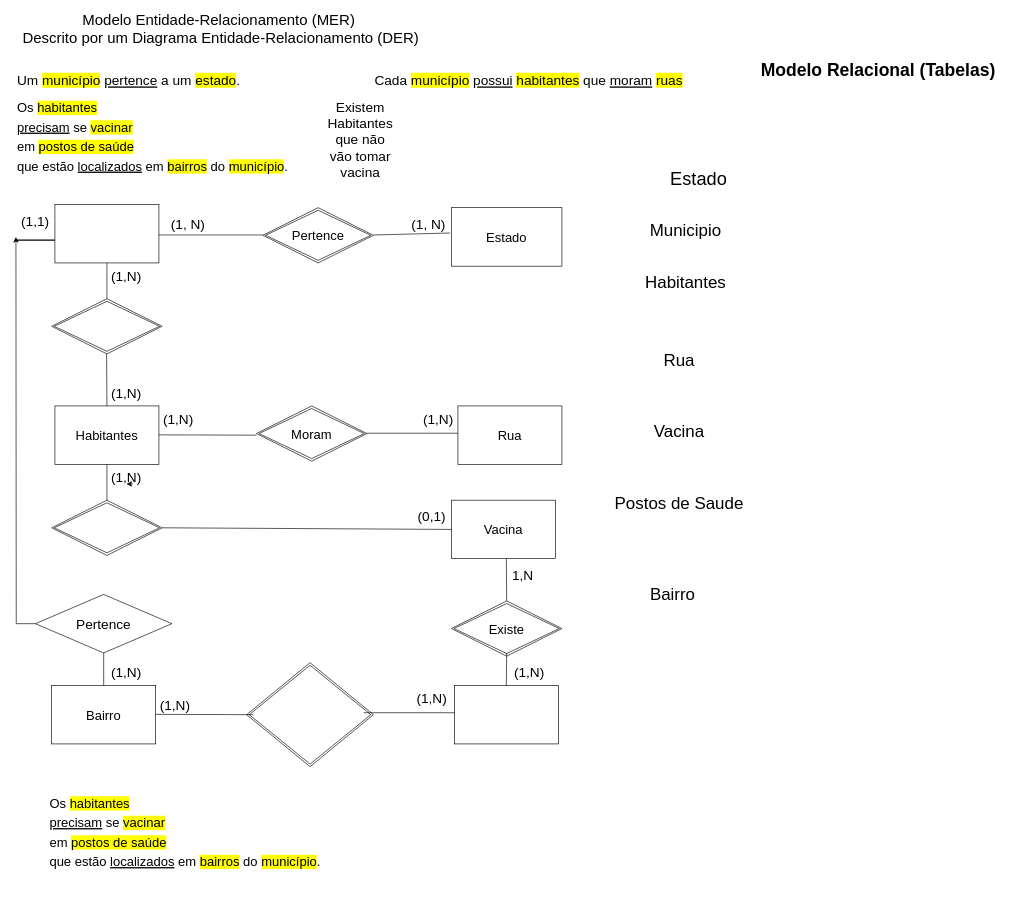
Some shapes in this 1015 by 905 pixel diagram are drawn without their labels. Here are the shapes that lost their labels. From the top down, the centre of each, then its label:
(x=106, y=233): Município
(x=106, y=326): Possui
(x=106, y=527): Tomam
(x=309, y=714): Estao Localizados
(x=506, y=714): Postos de Saúde
